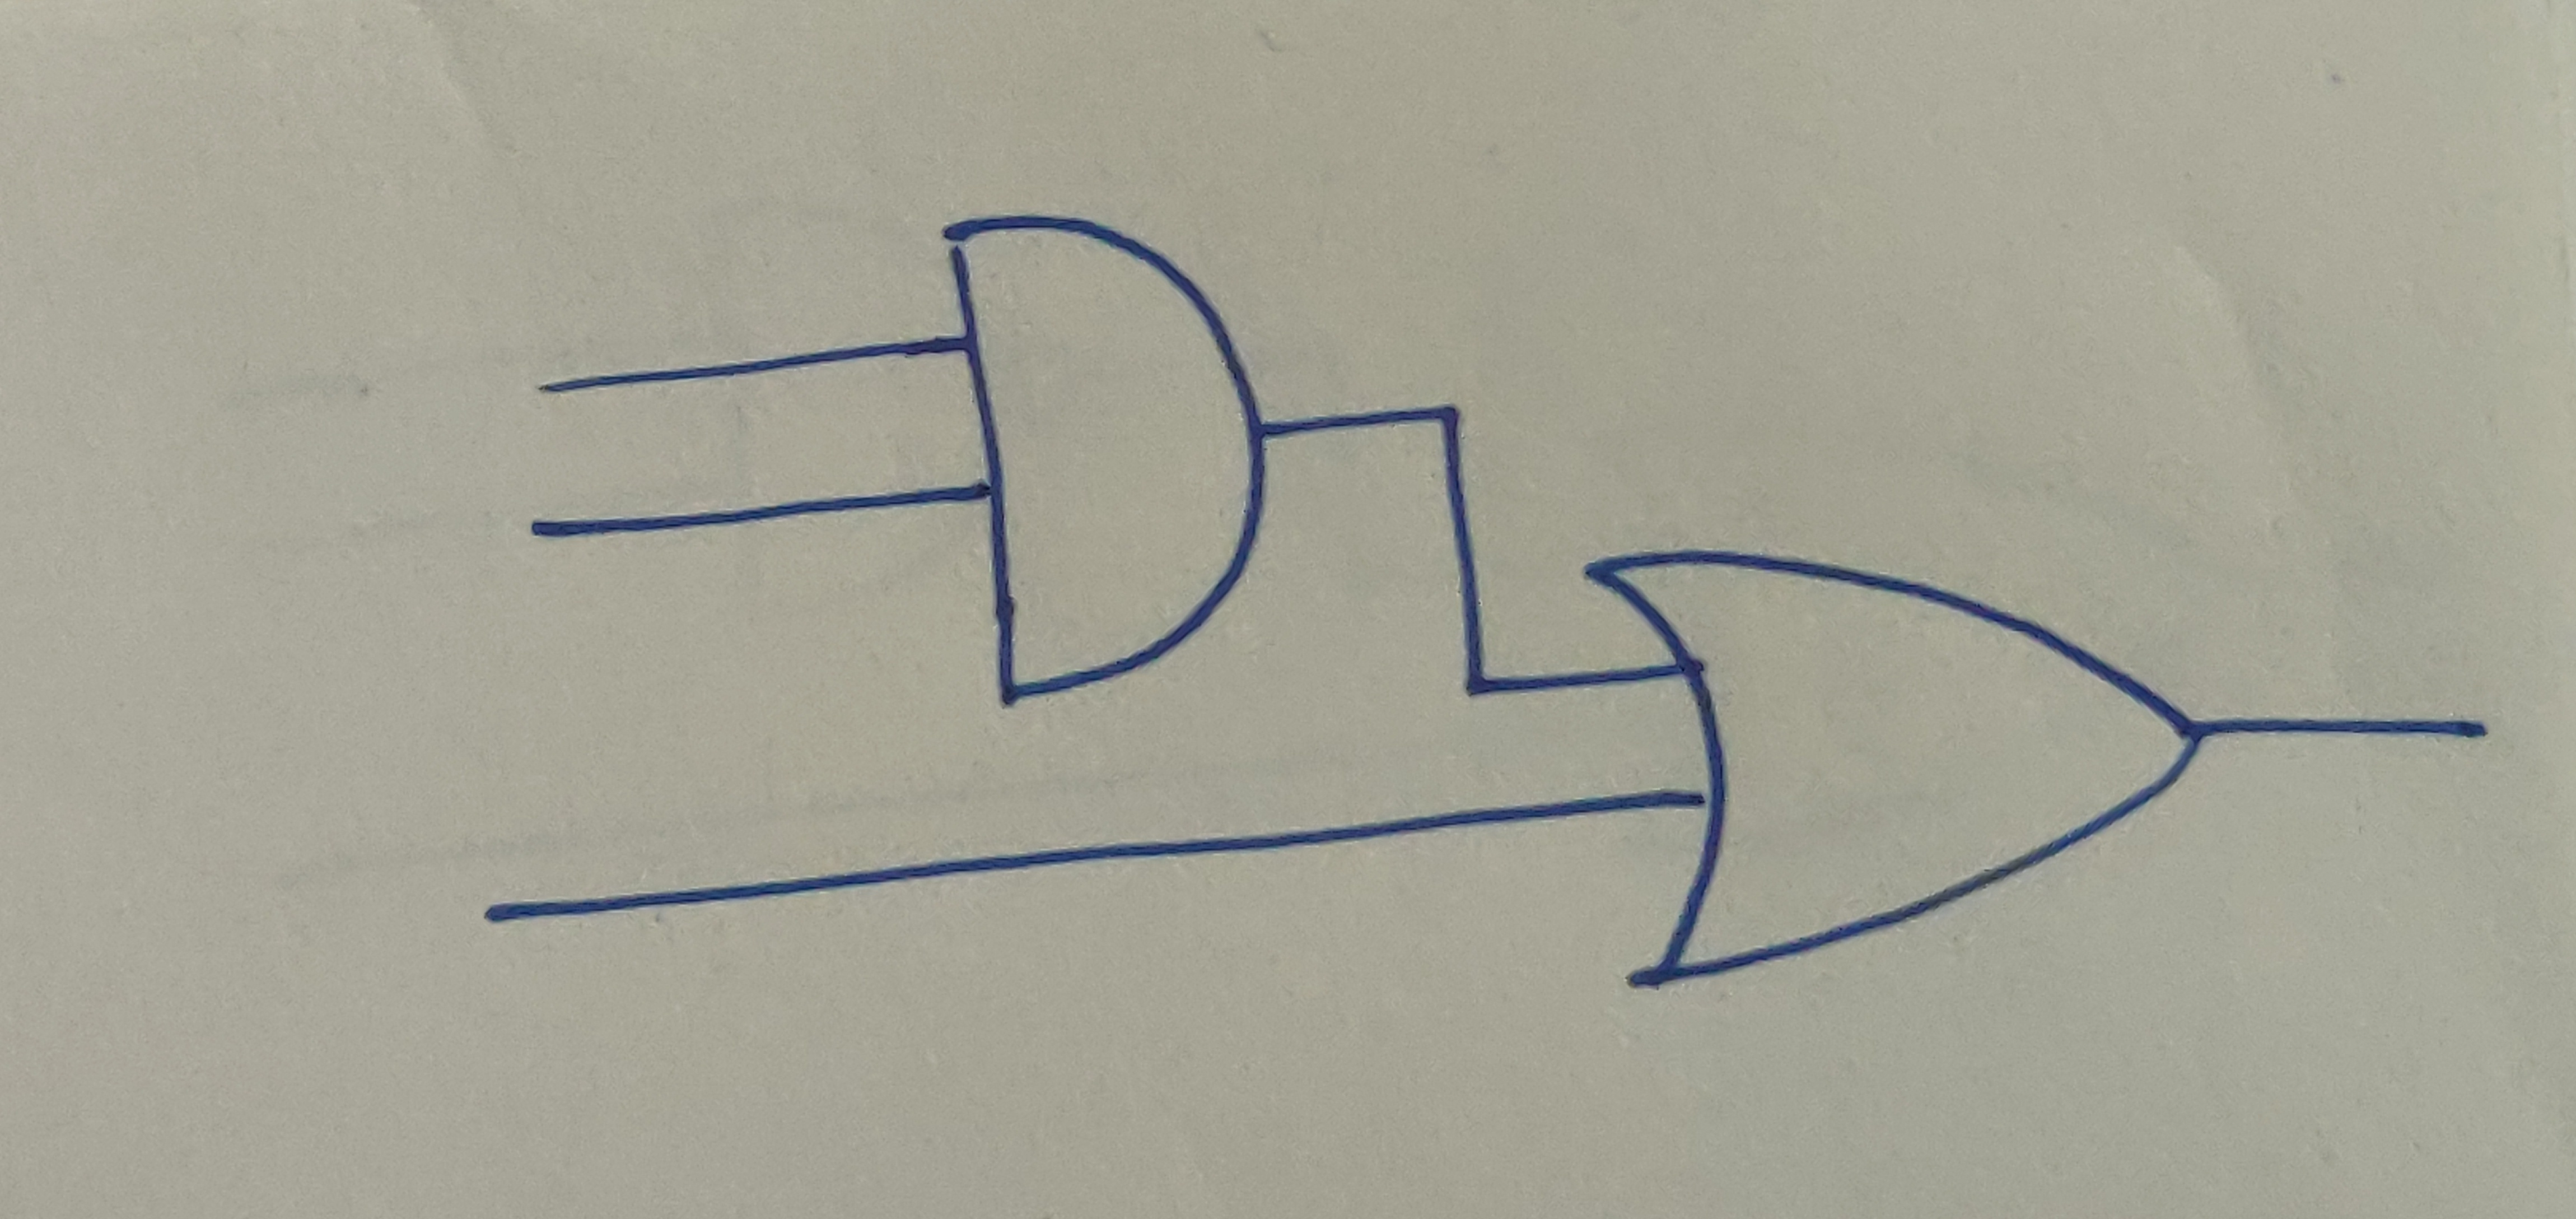and: (1577, 547, 2213, 996), (932, 210, 1275, 715)
